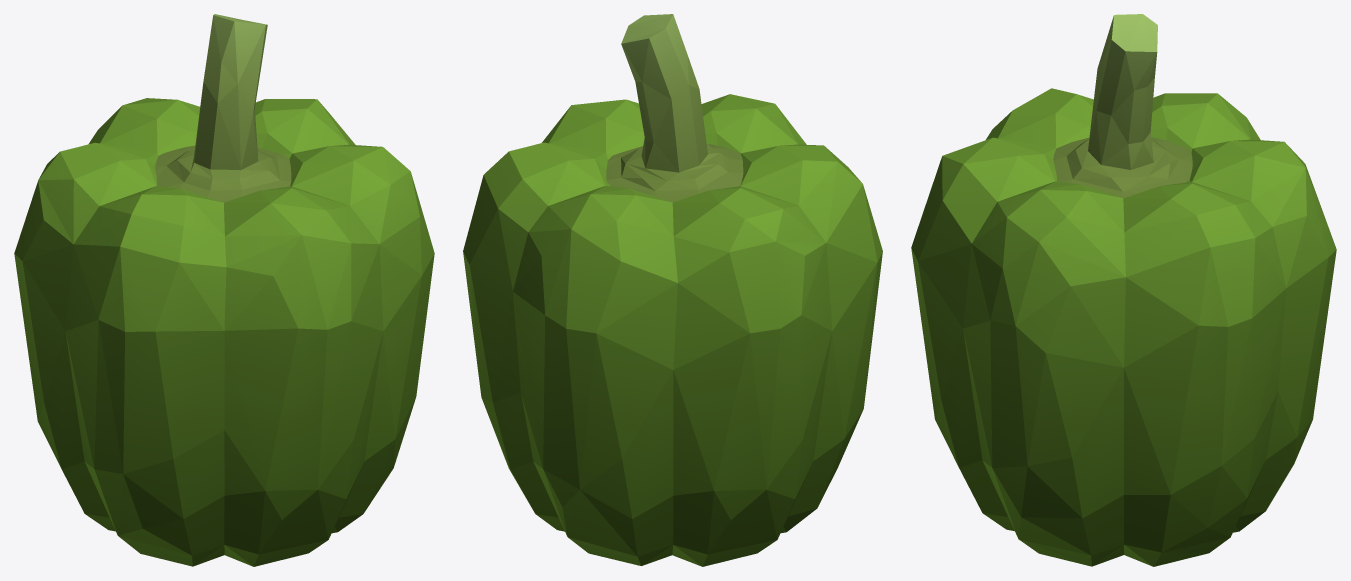
File: SM_Food_Pepper_Green.fbx
3 views of the same model, side by side, from view 1: azimuth 30°, elevation 25°; view 2: azimuth 150°, elevation 25°; view 3: azimuth 270°, elevation 25° (orthographic).
Visible parts, largest first — view 1: SM_Food_Pepper_Green; view 2: SM_Food_Pepper_Green; view 3: SM_Food_Pepper_Green.
Boxes of the visible parts, left/top/right/bottom form: SM_Food_Pepper_Green: left=14, top=14, right=434, bottom=566; SM_Food_Pepper_Green: left=463, top=14, right=882, bottom=566; SM_Food_Pepper_Green: left=911, top=14, right=1336, bottom=566.
Bounding box in the file's own units: 14.03 × 20.76 × 15.47.
